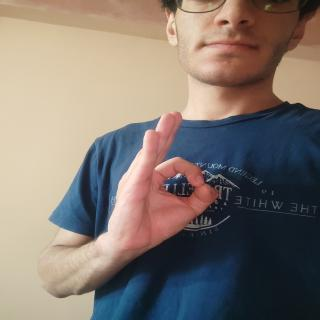Space: (106, 111, 212, 266)
